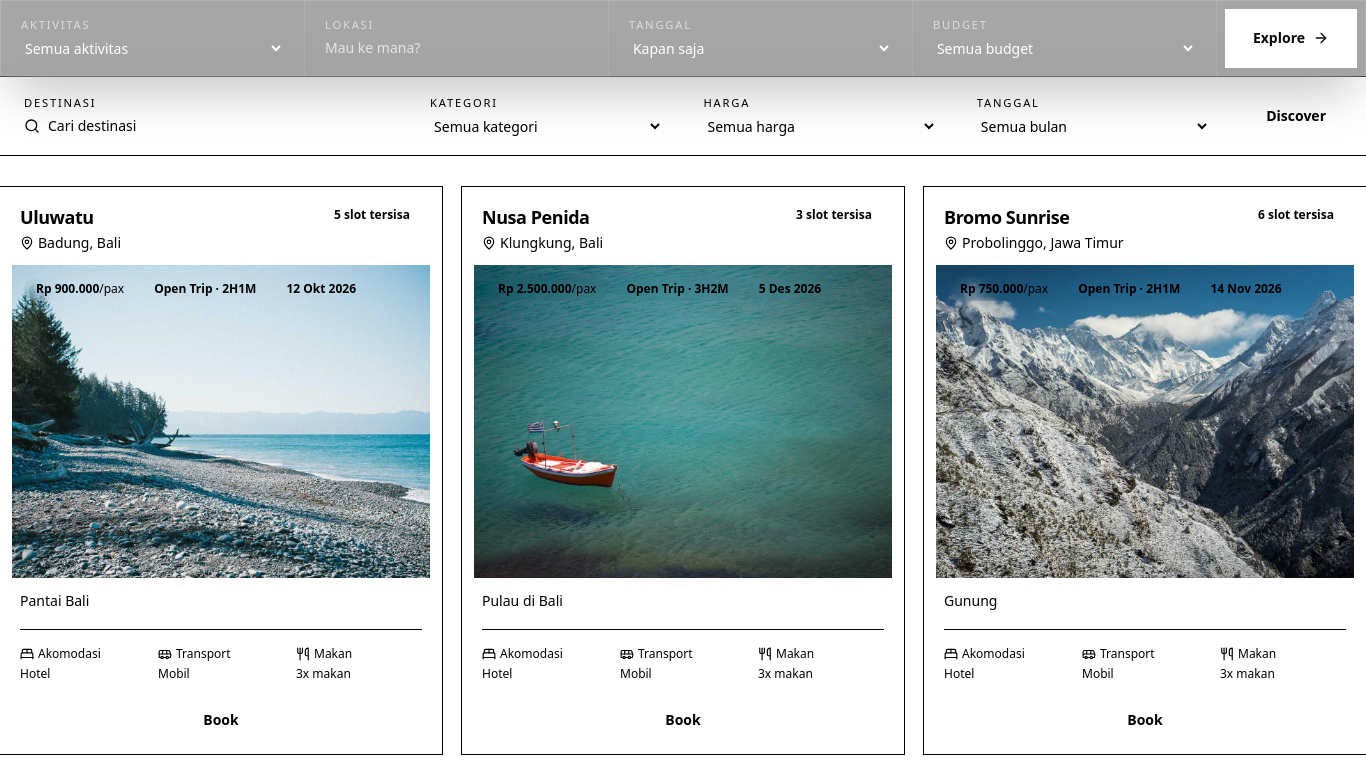
Test: trip search and cards › applies the hero search to the trip grid on Explore
Type "bali" into the search field labelled "Lokasi". click: (456, 48)
box: top-left (325, 38), bottom-right (588, 58)
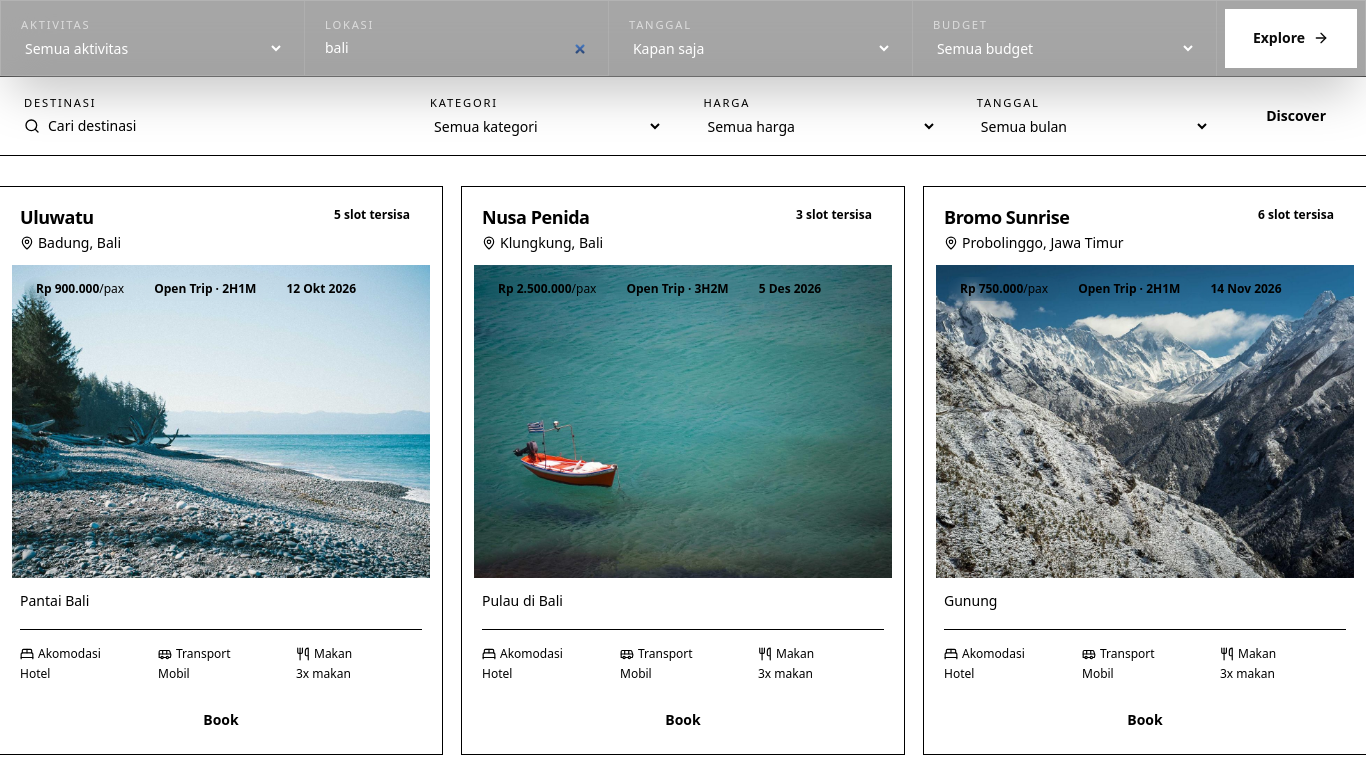
Select "< Rp1 jt" in the dropdown labelled "Budget". click: (1064, 48)
box: top-left (933, 38), bottom-right (1196, 59)
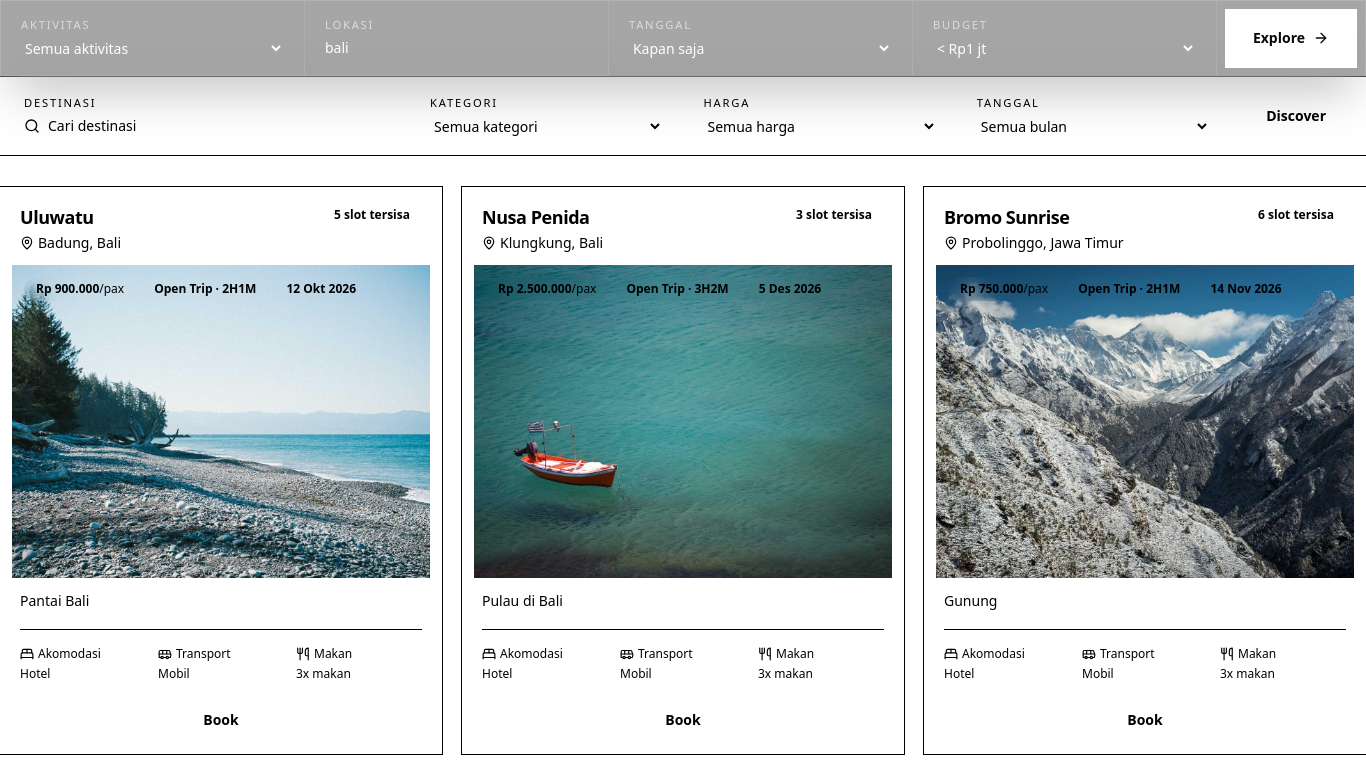
Click the button "Explore". click: (1291, 38)
box: top-left (1225, 9), bottom-right (1357, 68)
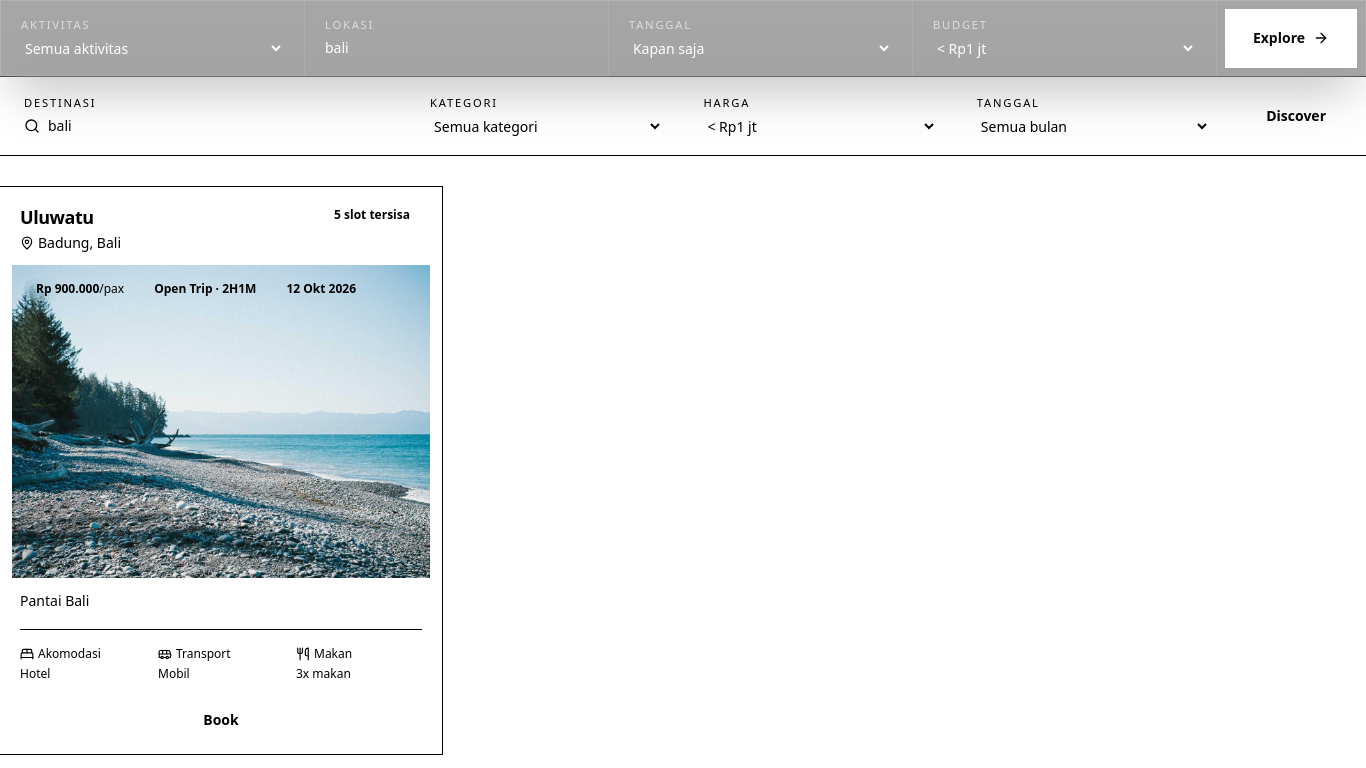
Expected: the search field labelled "Destinasi" holds "bali", top-left (48, 116), bottom-right (390, 136)
